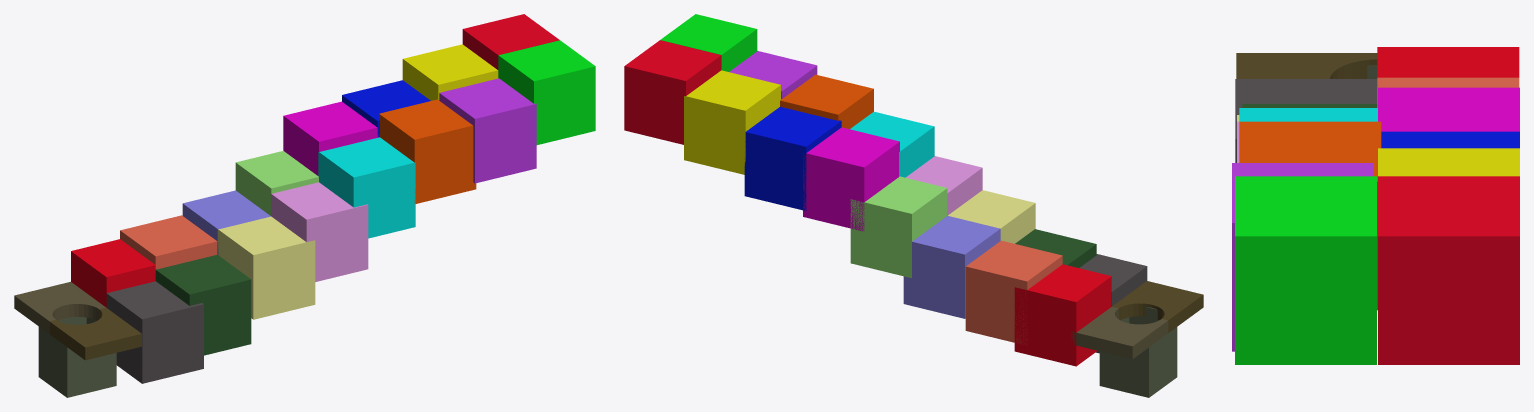
File: Pista4.fbx
3 views of the same model, side by side, from view 1: azimuth 30°, elevation 25°; view 2: azimuth 150°, elevation 25°; view 3: azimuth 270°, elevation 25° (orthographic). The views are drawn at different scales.
Parts seen in each view (by area): view 1: Cube.003, Cube.005, Cube.015, Cube.010, Cube.009, Cube.013, Cube.006, Cube.002, Cube.011, Cube.001, Cube.018, Cube.008 (+7 smaller); view 2: Cube.011, Cube.001, Cube.008, Cube.007, Cube.014, Cube.012, Cube.004, Cube, Cube.018, Cube.010, Cube.015, Cube.016 (+7 smaller); view 3: Cube.014, Cube.015, Cube.011, Cube.010, Cube.001, Cube.008, Cube.003, Cube.017, Cube.013, Cube.012, Cube.009, Cube (+1 smaller).
Part boxes in pixels (bbox=[...]): Cube.003: bbox=[106, 281, 203, 383]; Cube.005: bbox=[217, 216, 315, 319]; Cube.015: bbox=[498, 40, 595, 144]; Cube.010: bbox=[379, 99, 476, 203]; Cube.009: bbox=[318, 137, 415, 238]; Cube.013: bbox=[439, 78, 536, 183]; Cube.006: bbox=[271, 182, 368, 281]; Cube.002: bbox=[155, 254, 251, 355]; Cube.011: bbox=[283, 101, 378, 175]; Cube.001: bbox=[71, 239, 155, 307]; Cube.018: bbox=[38, 317, 116, 397]; Cube.008: bbox=[402, 44, 498, 100]; Cube.011: bbox=[803, 127, 899, 231]; Cube.001: bbox=[1014, 264, 1111, 366]; Cube.008: bbox=[684, 70, 780, 174]; Cube.007: bbox=[850, 176, 947, 278]; Cube.014: bbox=[624, 40, 721, 144]; Cube.012: bbox=[744, 106, 841, 210]; Cube.004: bbox=[903, 215, 1000, 318]; Cube: bbox=[965, 240, 1062, 344]; Cube.018: bbox=[1099, 307, 1177, 397]; Cube.010: bbox=[780, 74, 873, 129]; Cube.015: bbox=[660, 14, 757, 71]; Cube.016: bbox=[1071, 307, 1168, 359]; Cube.014: bbox=[1378, 176, 1519, 364]; Cube.015: bbox=[1235, 176, 1376, 364]; Cube.011: bbox=[1378, 87, 1519, 131]; Cube.010: bbox=[1239, 121, 1381, 310]; Cube.001: bbox=[1377, 47, 1519, 77]; Cube.008: bbox=[1378, 148, 1519, 176]; Cube.003: bbox=[1235, 79, 1377, 162]; Cube.017: bbox=[1236, 53, 1377, 78]; Cube.013: bbox=[1232, 163, 1373, 351]; Cube.012: bbox=[1381, 131, 1519, 148]; Cube.009: bbox=[1239, 108, 1377, 121]; Cube: bbox=[1377, 77, 1519, 107].
Bounding box in the file's own units: 1653 × 696 × 405.
